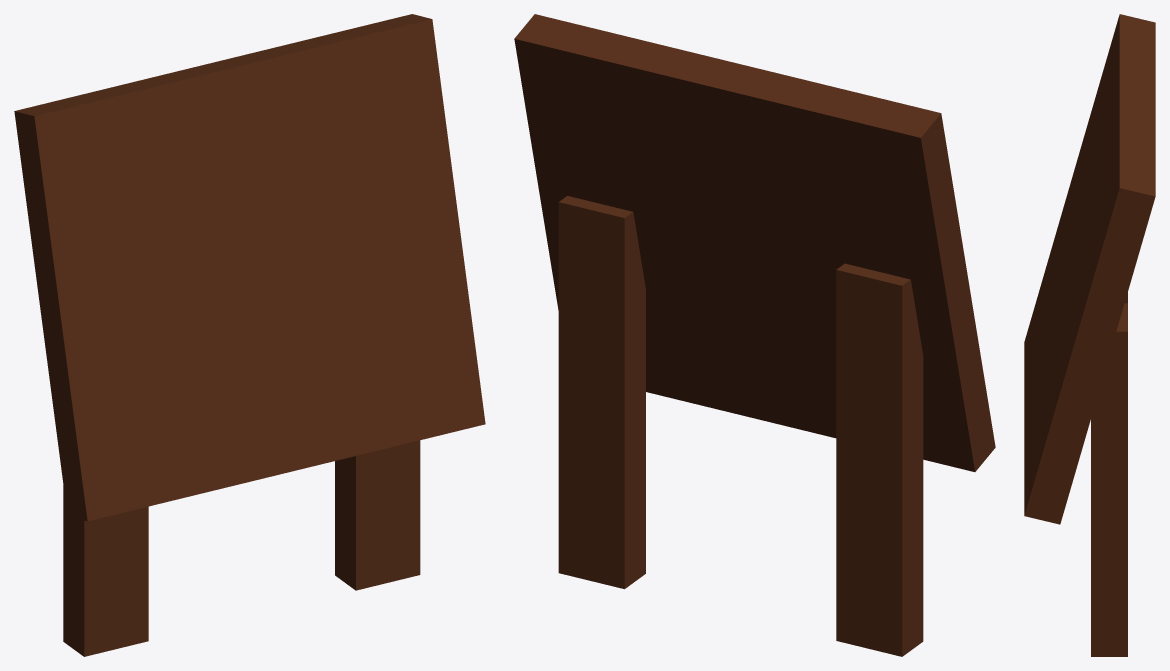
File: workshop-sign.fbx
3 views of the same model, side by side, from view 1: azimuth 30°, elevation 25°; view 2: azimuth 150°, elevation 25°; view 3: azimuth 270°, elevation 25° (orthographic). The views are drawn at different scales.
Parts seen in each view (by area): view 1: Workshop_Sign; view 2: Workshop_Sign; view 3: Workshop_Sign.
Part boxes in pixels (<box>): Workshop_Sign: <box>14,14,485,656</box>; Workshop_Sign: <box>514,14,995,656</box>; Workshop_Sign: <box>1024,14,1155,656</box>.
Bounding box in the file's own units: 97.41 × 126 × 31.05.
